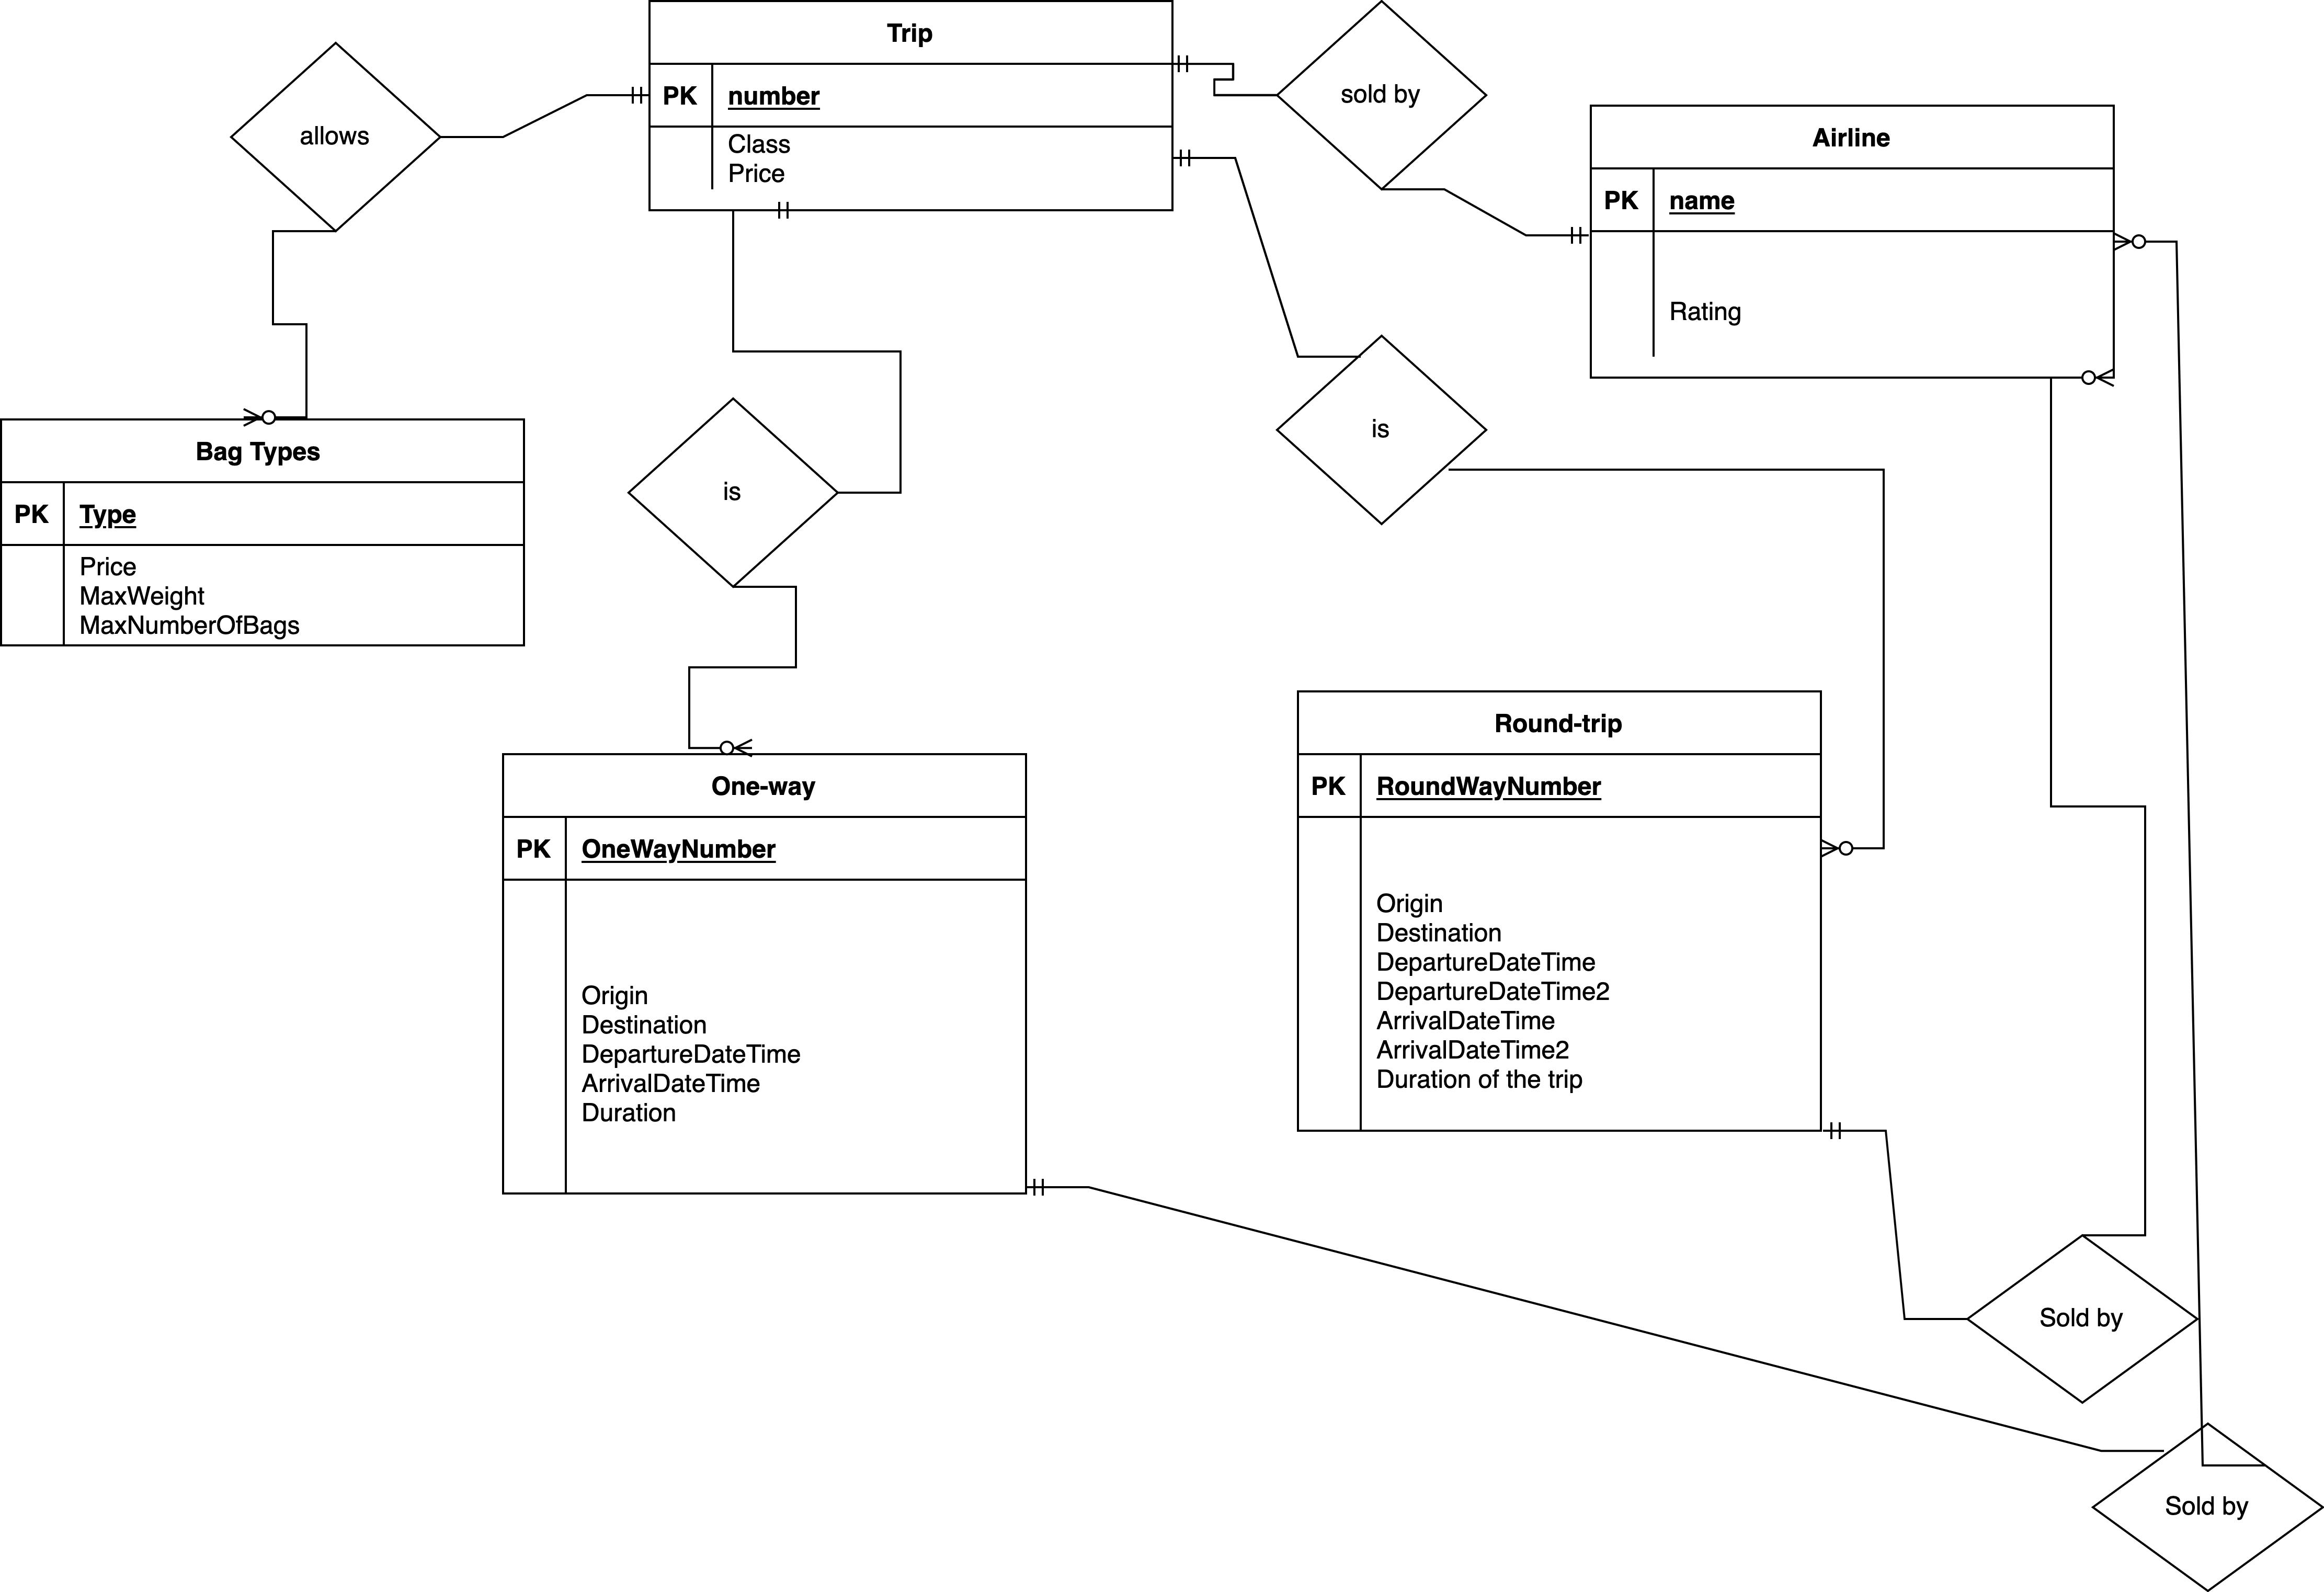entity: (1291, 686, 1828, 1138), (500, 747, 1033, 1196), (1588, 99, 2123, 380), (0, 412, 532, 652), (645, 0, 1171, 214)
relationship: (1277, 330, 1489, 523), (1277, 0, 1492, 187), (228, 44, 445, 230), (625, 399, 839, 587), (1971, 1235, 2200, 1405), (2094, 1422, 2324, 1592)
